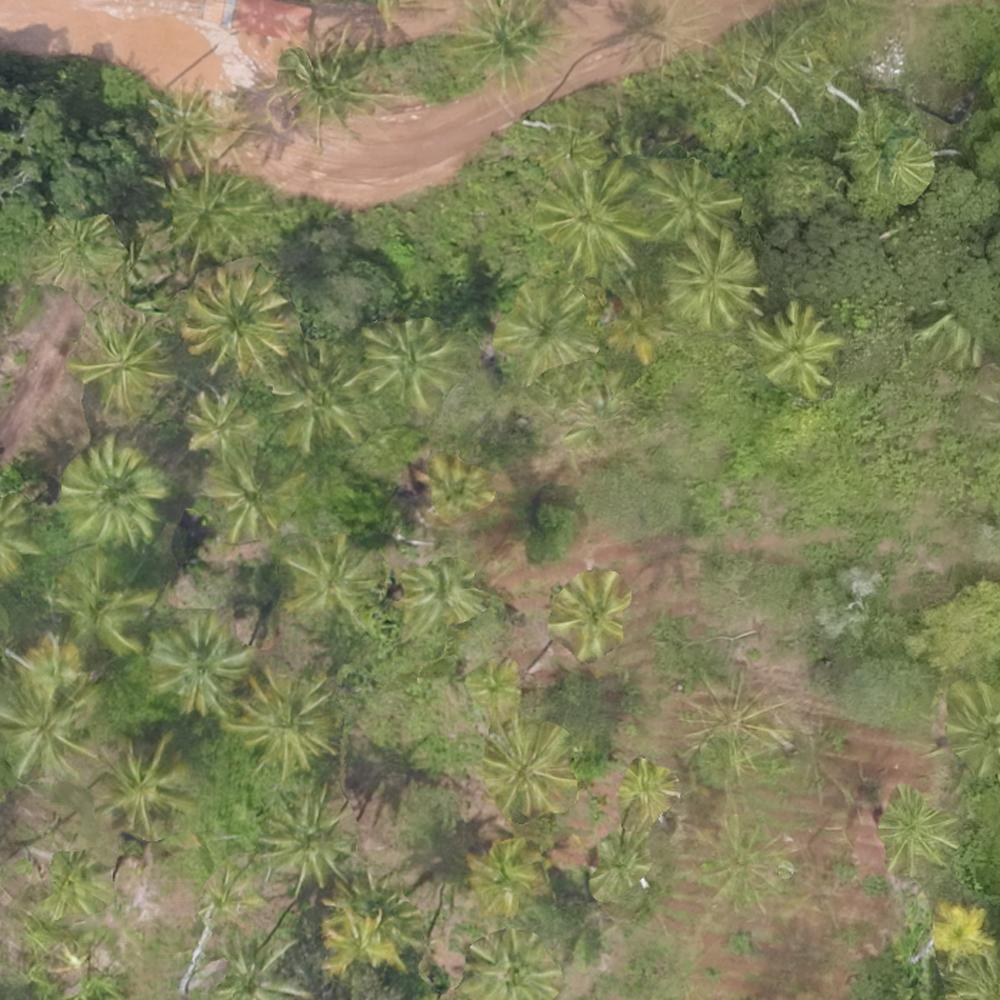Palm: (538, 163, 646, 271), (91, 731, 201, 831), (5, 659, 101, 772), (187, 271, 290, 373), (145, 615, 244, 717), (274, 46, 380, 140), (233, 664, 332, 764), (60, 448, 159, 544), (269, 349, 368, 444), (661, 233, 761, 324), (51, 561, 152, 650), (76, 317, 168, 414), (258, 786, 348, 881), (208, 454, 302, 543), (486, 717, 574, 812), (501, 284, 599, 368), (166, 166, 252, 252), (642, 155, 732, 234), (287, 539, 376, 617), (364, 324, 453, 401), (760, 305, 838, 390), (42, 211, 124, 282), (553, 574, 627, 652), (880, 789, 954, 862), (466, 840, 536, 909), (185, 390, 251, 454)
